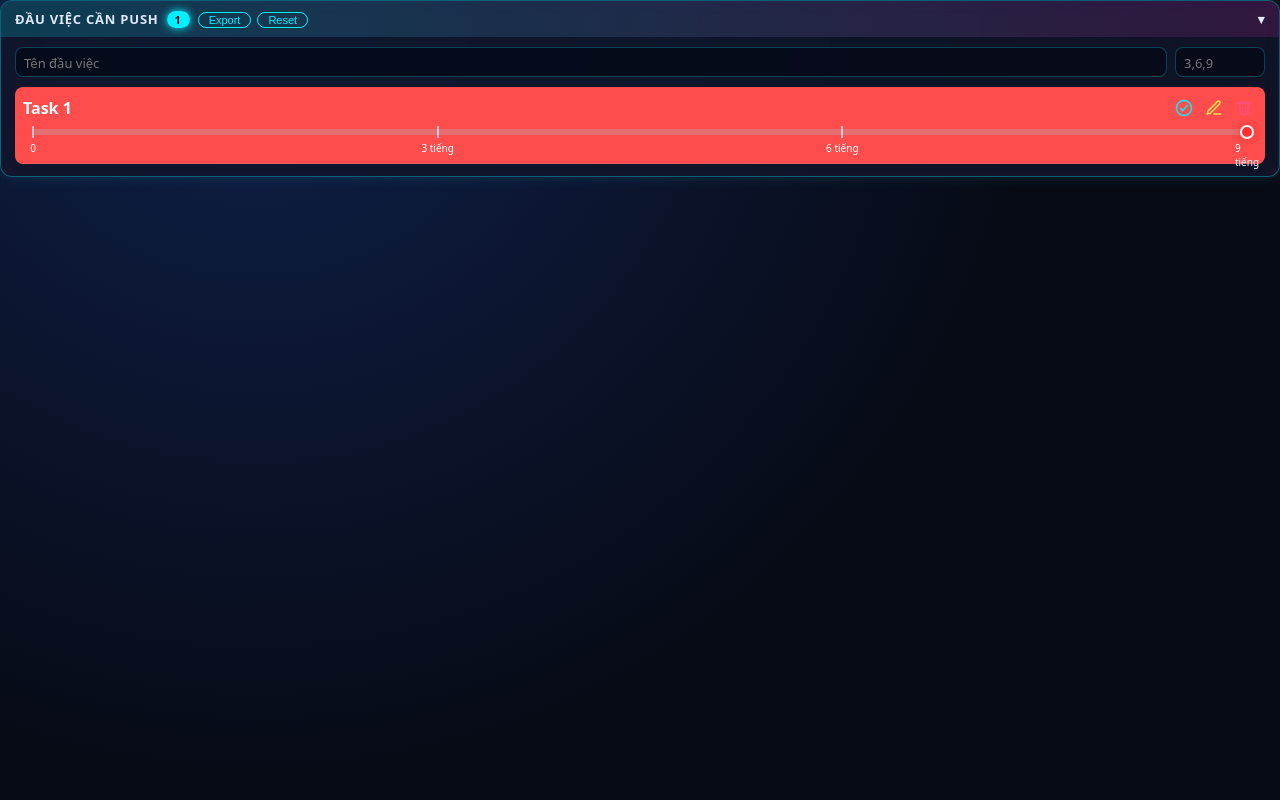
Test: PushTaskPanel › nút Reset nằm cạnh nút Export; bấm hiện hộp xác nhận, chưa reset ngay
Check: the text "Task 1" is shown, box [23, 97, 72, 119]
Check: the element with test id "push-task-row-1" is shown, box [15, 87, 1265, 164]
Click the button "Reset": (283, 20) [257, 12, 308, 28]
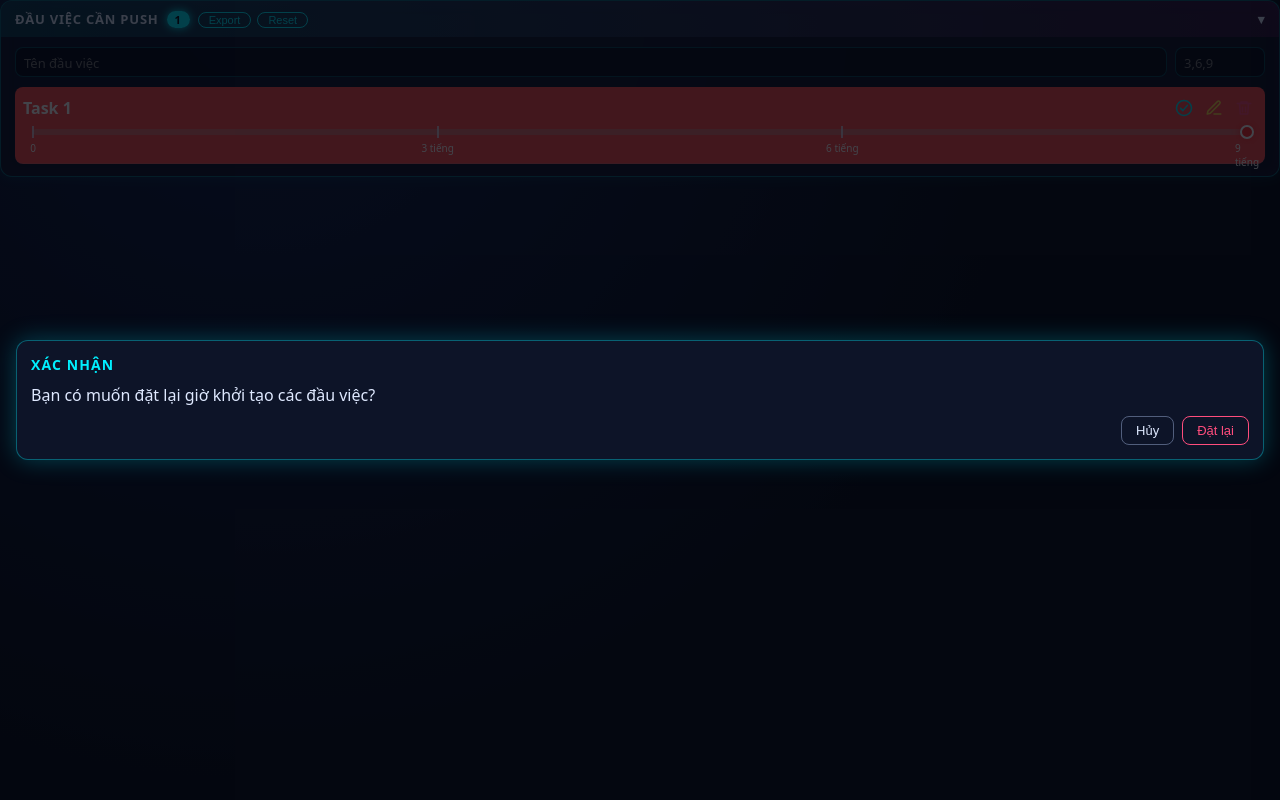
Check: the element with test id "push-task-row-1" is shown, box [15, 87, 1265, 164]
Check: the text "Bạn có muốn đặt lại giờ khởi tạo các đầu việc?" is shown, box [31, 384, 375, 406]
